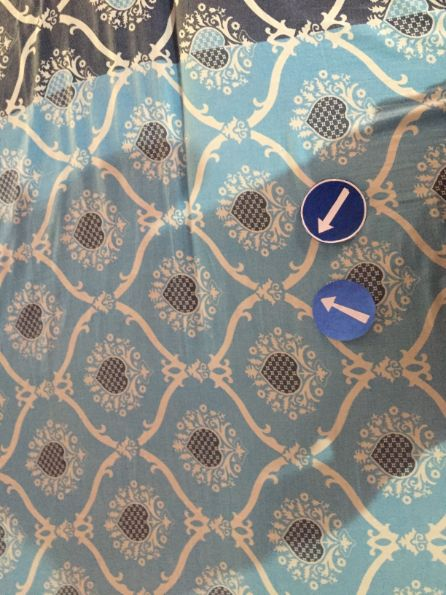go-stright: (299, 178, 368, 244)
keep-left: (311, 281, 373, 343)
